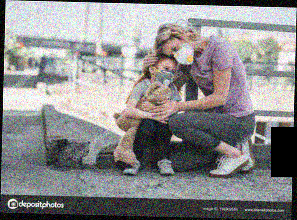with_mask: (168, 41, 195, 65), (153, 64, 177, 88)
